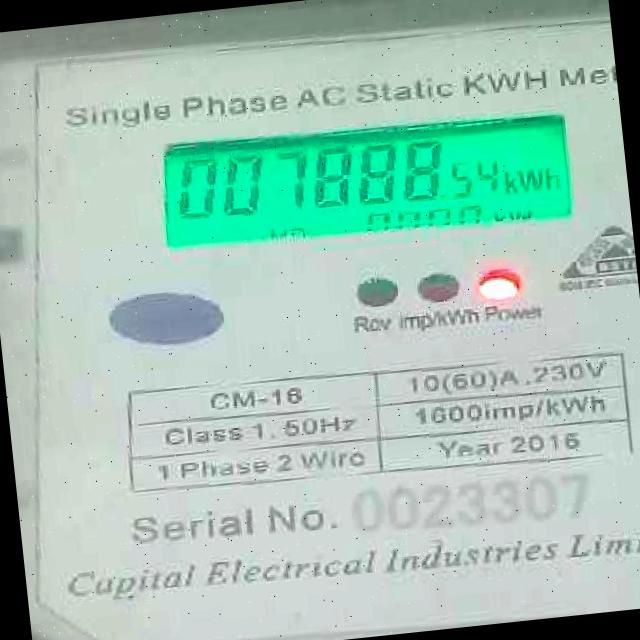LCD: (150, 99, 584, 262)
